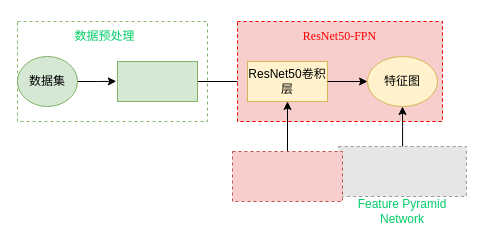
Image size: 484x243. Some labels were removed from this diagram. Grey dashed boxes stand in for pictures. The shapes that lost their labels are listed below. From the top down, each one's centre as x and y in pixels, then its label:
[157,81]: 数据增强
[287,176]: 混合注意力机制模块（通道域、空间域注意力）
